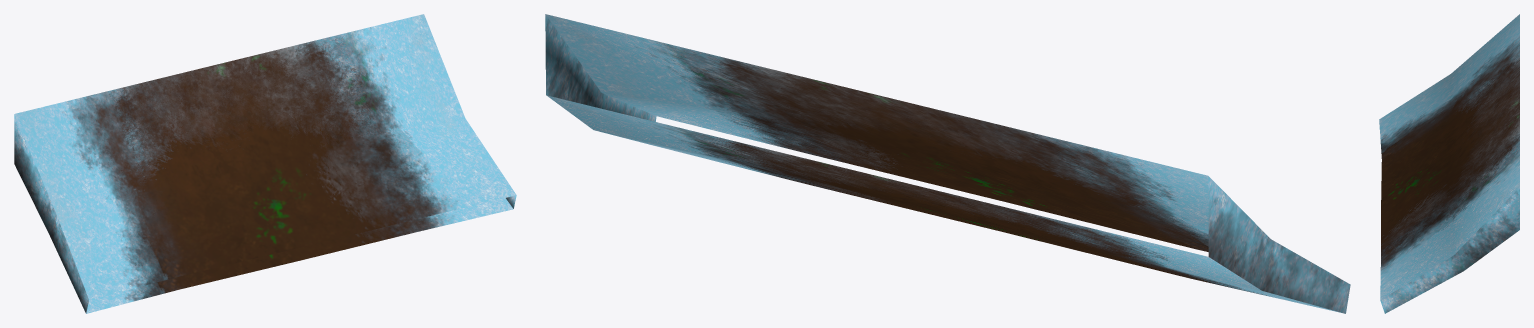
The model's file is 3D_Slope_Winter_02.fbx.
3 renders of one model, left to right at view 1: azimuth 30°, elevation 25°; view 2: azimuth 150°, elevation 25°; view 3: azimuth 270°, elevation 25°, orthographic. The views are drawn at different scales.
Visible parts, largest first — view 1: Winter_Slope02; view 2: Winter_Slope02; view 3: Winter_Slope02.
Part boxes in pixels (x1,y1,x2,y2): Winter_Slope02: (14, 14, 516, 313); Winter_Slope02: (545, 14, 1350, 313); Winter_Slope02: (1379, 14, 1519, 313).
Size of the model in its own units: 1791 by 564 by 589.
Materials: 1 (1 with a texture image).
